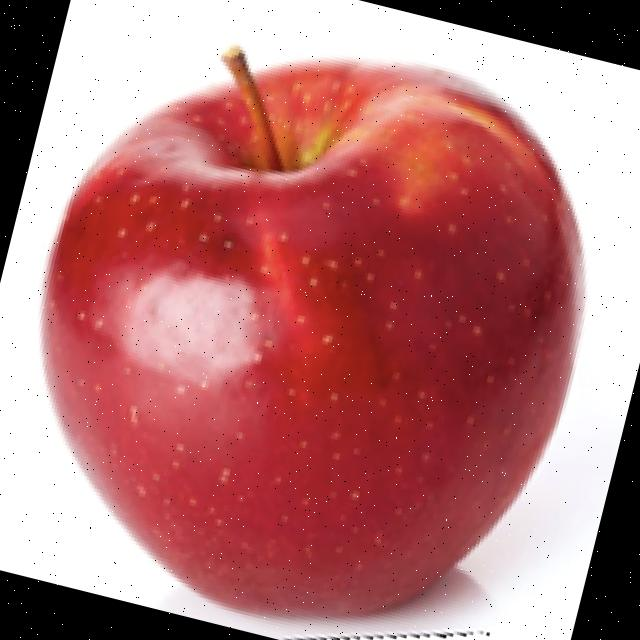apple: (34, 38, 589, 640)
